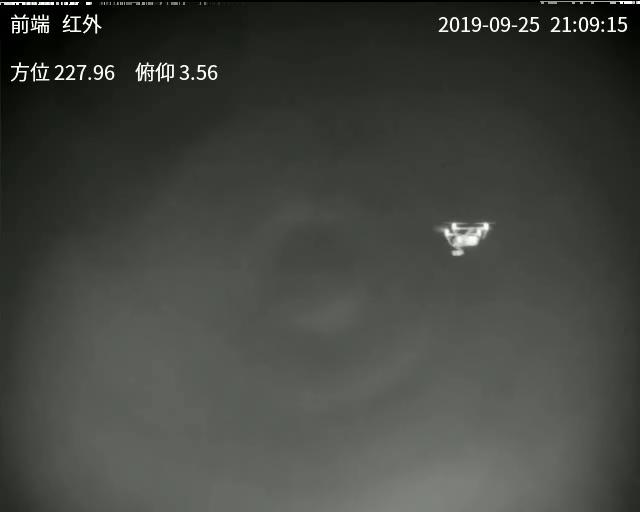uav: (437, 219, 489, 258)
